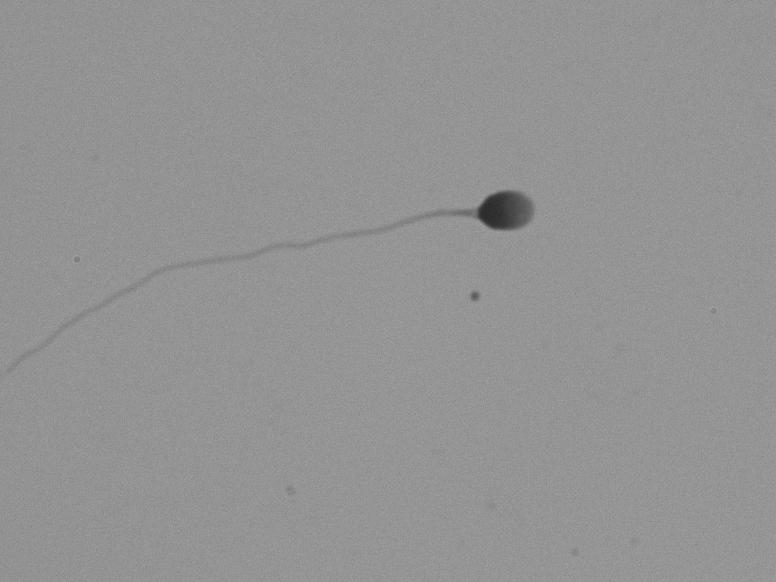Normal: (15, 125, 600, 367)
